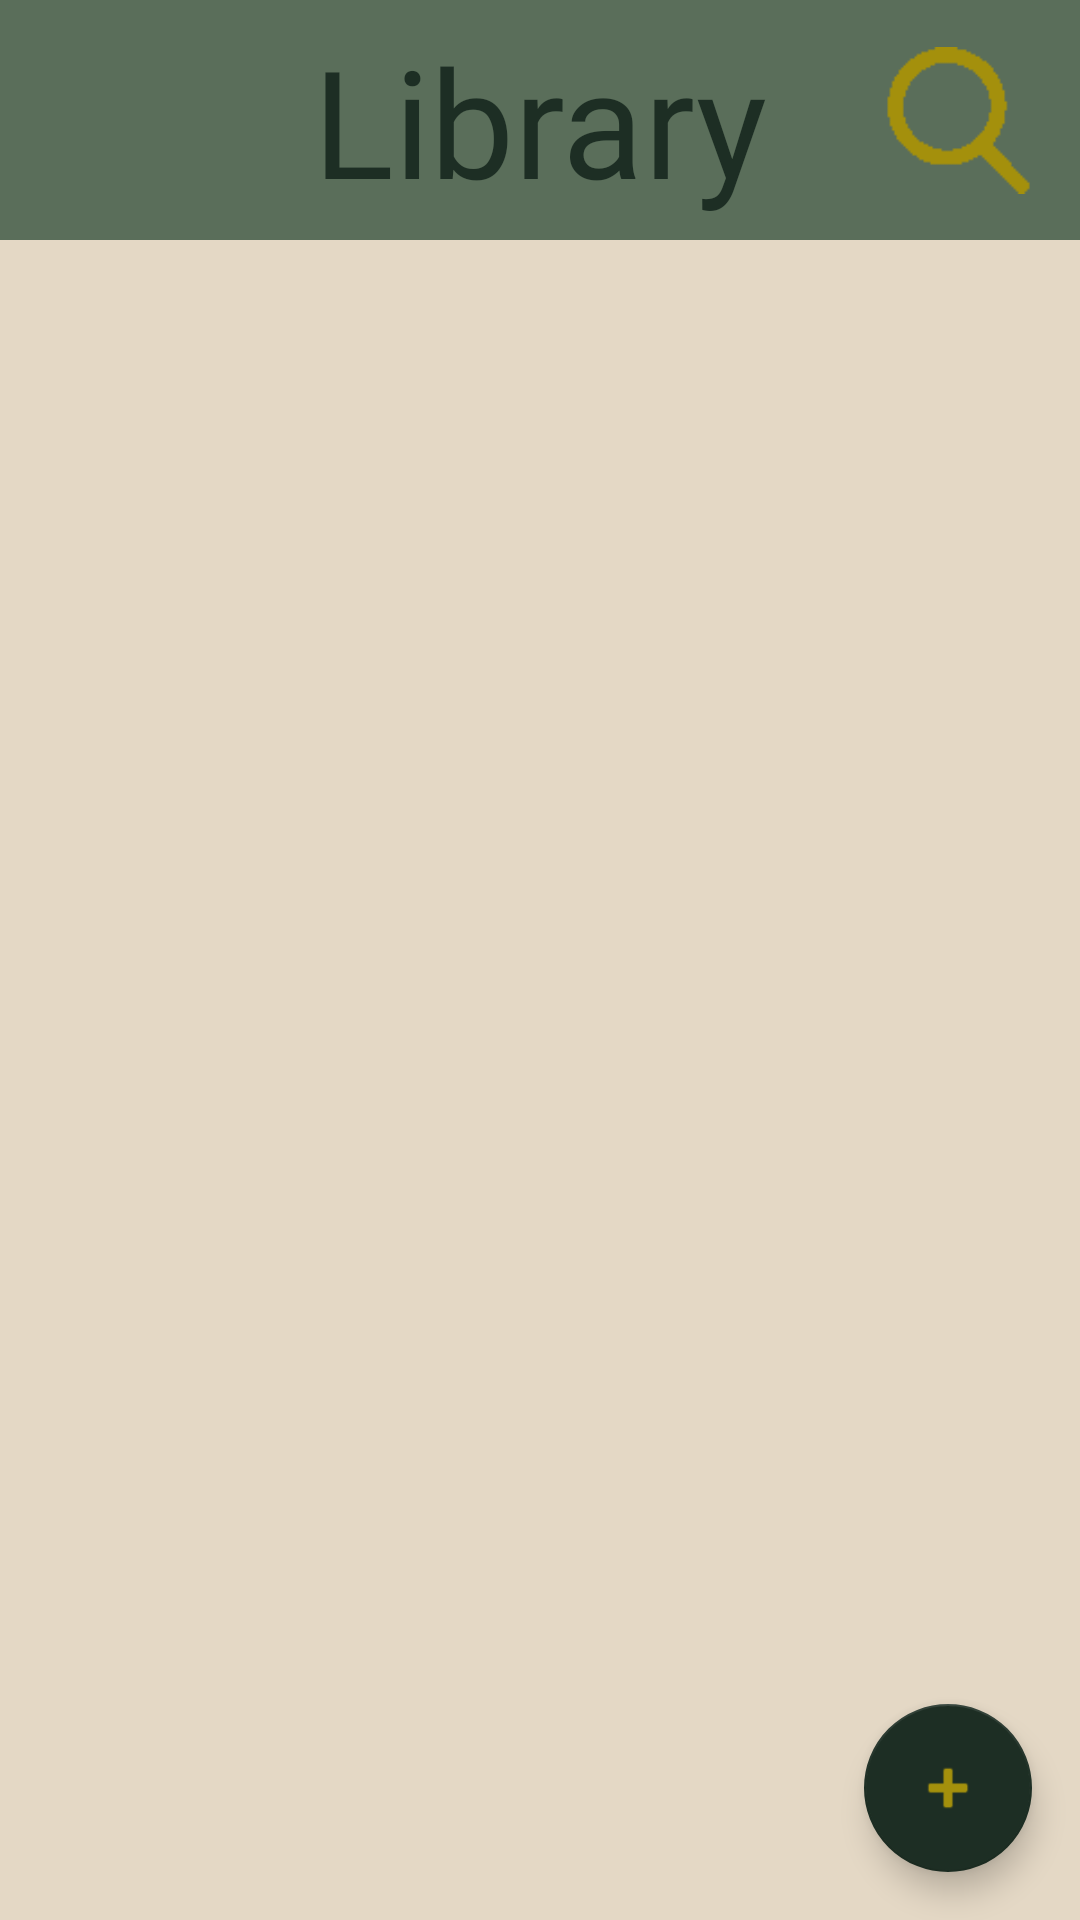

Screen size 1080×1920. Icon name, then its center in pixels as (x=x, y=y):
Add book: (x=948, y=1788)
